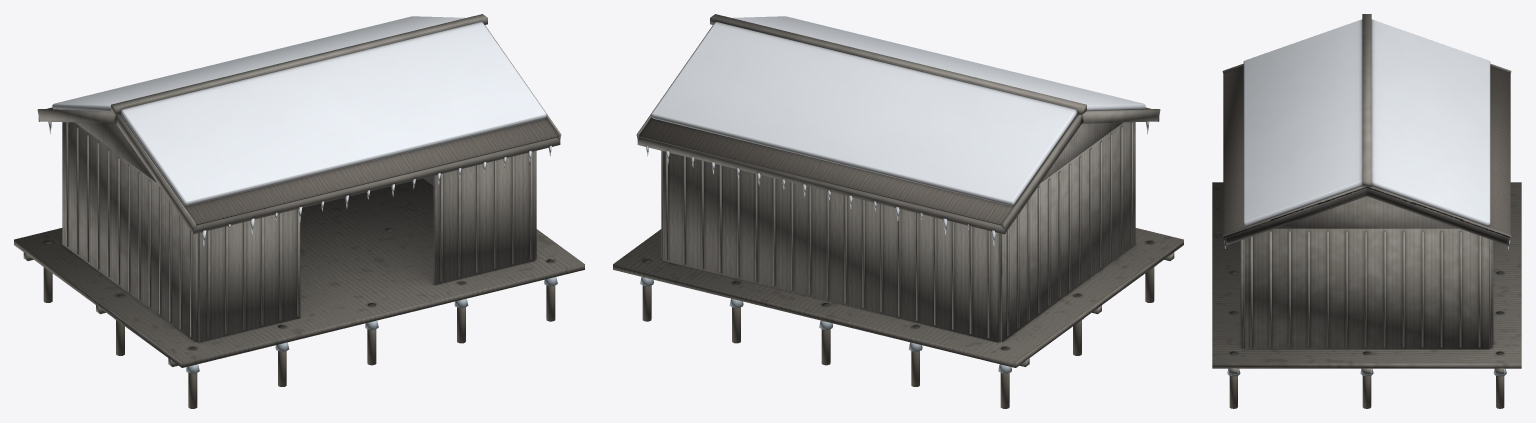
The model's file is lake_shack.glb.
The picture shows the model from 3 angles, left to right: view 1: azimuth 30°, elevation 25°; view 2: azimuth 150°, elevation 25°; view 3: azimuth 270°, elevation 25°; orthographic projection. The views are drawn at different scales.
Visible parts, largest first — view 1: lake_shack; view 2: lake_shack; view 3: lake_shack.
Boxes of the visible parts, box(x1,y1,x2,y2) form: lake_shack: box(14, 14, 584, 408); lake_shack: box(613, 14, 1183, 408); lake_shack: box(1212, 14, 1521, 408).
Size of the model in its own units: 9 by 5.32 by 6.5.
Materials: 1 (1 with a texture image).
